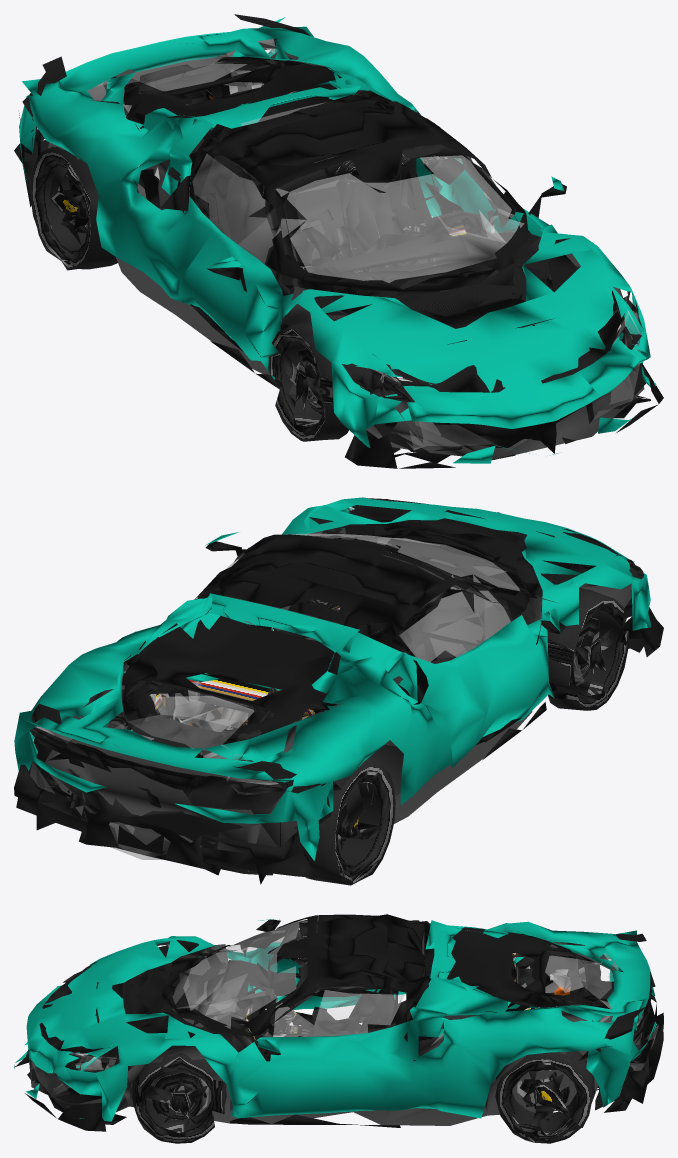
File: 2026_ferrari_296_speciale_a.glb
The picture shows the model from 3 angles, top to bottom: view 1: azimuth 30°, elevation 25°; view 2: azimuth 150°, elevation 25°; view 3: azimuth 270°, elevation 25°; orthographic projection. The views are drawn at different scales.
Parts seen in each view (by area): view 1: body; view 2: body; view 3: body.
Boxes of the visible parts, left/top/right/bottom form: body: left=14, top=14, right=663, bottom=468; body: left=14, top=497, right=663, bottom=885; body: left=14, top=914, right=663, bottom=1143.
Bounding box in the file's own units: 2.28 × 1.18 × 4.65.
Materials: 12 (8 with a texture image).
